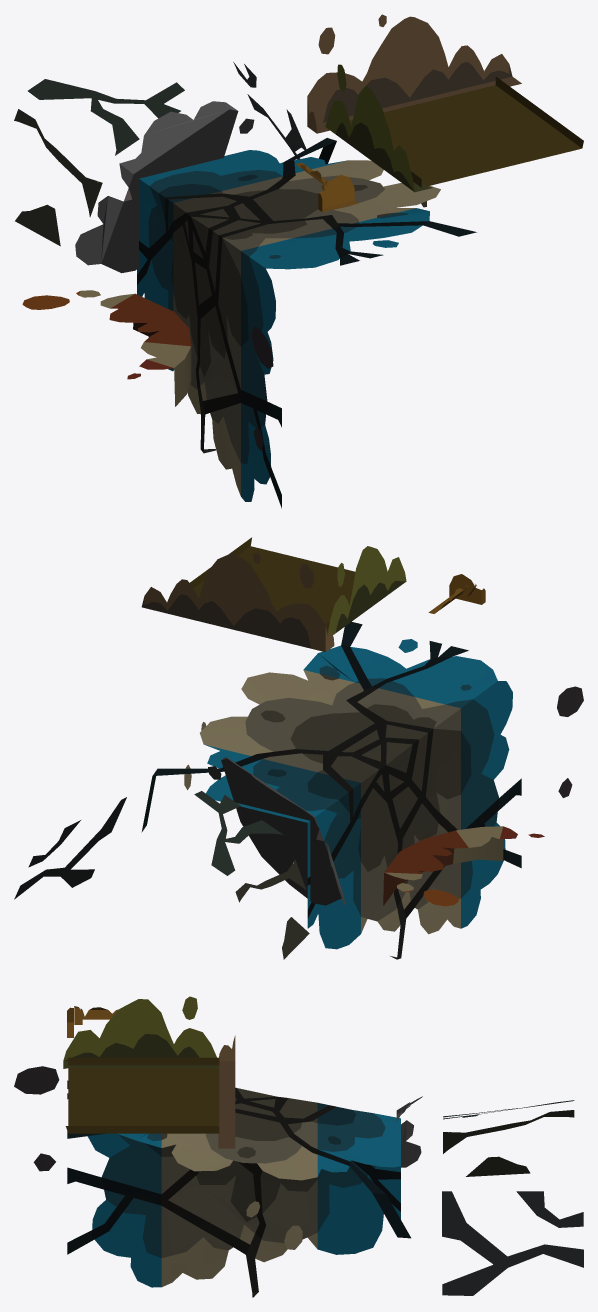
File: lifeGuardMess.fbx
3 views of the same model, one above another, from view 1: azimuth 30°, elevation 25°; view 2: azimuth 150°, elevation 25°; view 3: azimuth 270°, elevation 25° (orthographic). The views are drawn at different scales.
Visible parts, largest first — view 1: lifeGuardMess; view 2: lifeGuardMess; view 3: lifeGuardMess.
Part boxes in pixels (left/top/right/bottom): lifeGuardMess: left=14, top=14, right=583, bottom=508; lifeGuardMess: left=14, top=537, right=583, bottom=959; lifeGuardMess: left=14, top=996, right=583, bottom=1297.
Bounding box in the file's own units: 206 × 191 × 279.
